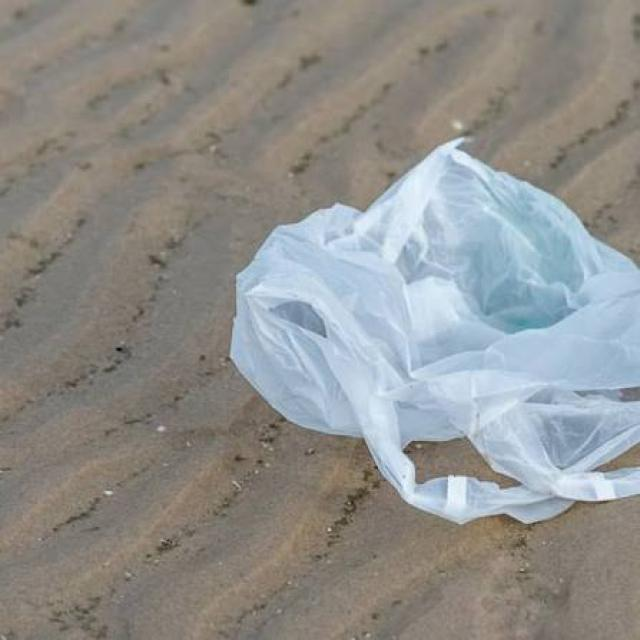bag: (181, 155, 640, 578)
